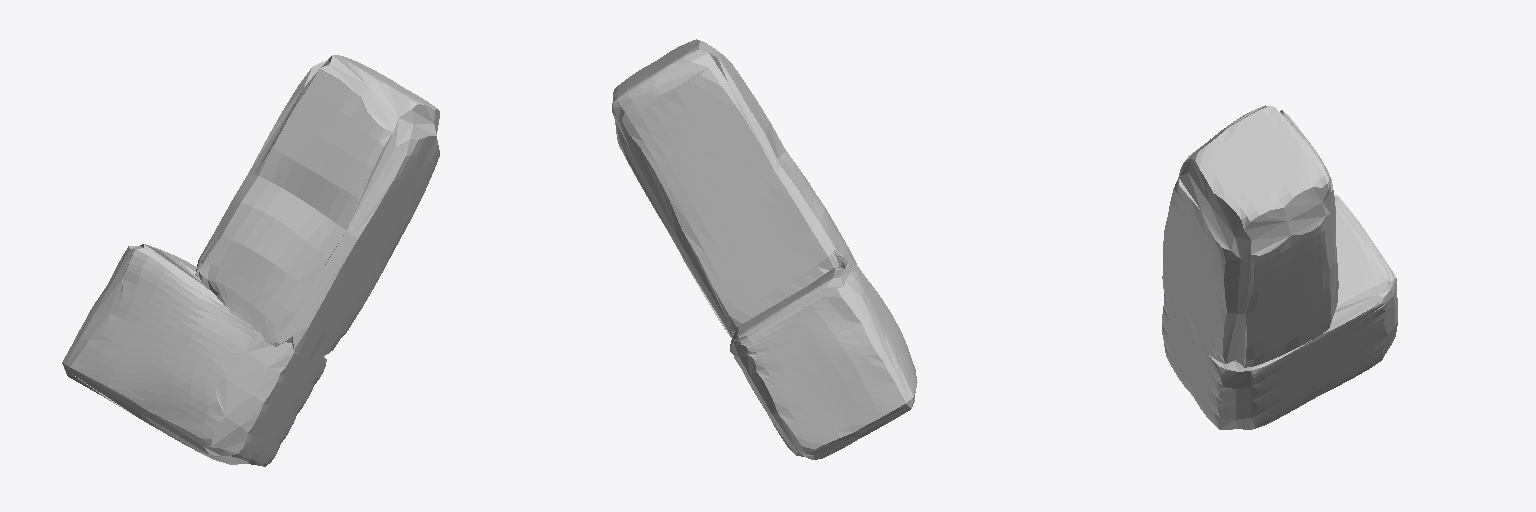
The model's file is blockaus2.obj.
The picture shows the model from 3 angles: view 1: azimuth 30°, elevation 25°; view 2: azimuth 150°, elevation 25°; view 3: azimuth 270°, elevation 25°; orthographic projection.
Visible parts, largest first — view 1: Cube.024_Cube.020; view 2: Cube.024_Cube.020; view 3: Cube.024_Cube.020.
Boxes of the visible parts, x1=… form: Cube.024_Cube.020: x1=62, y1=55, x2=439, y2=466; Cube.024_Cube.020: x1=612, y1=39, x2=917, y2=459; Cube.024_Cube.020: x1=1162, y1=105, x2=1397, y2=429.
Size of the model in its own units: 5.62 by 6.02 by 3.46.